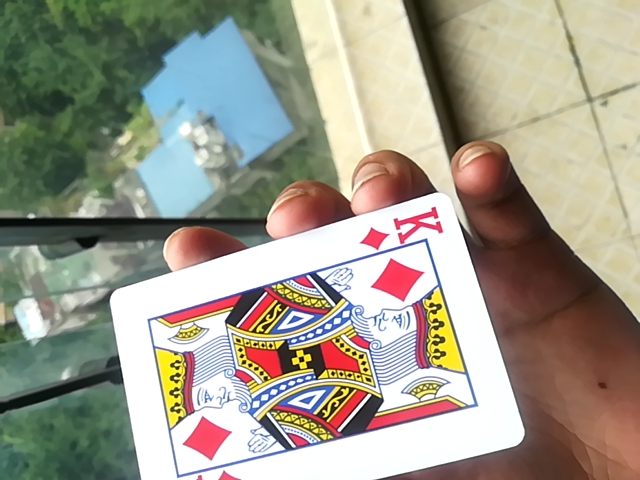fk k: (109, 186, 523, 479)
